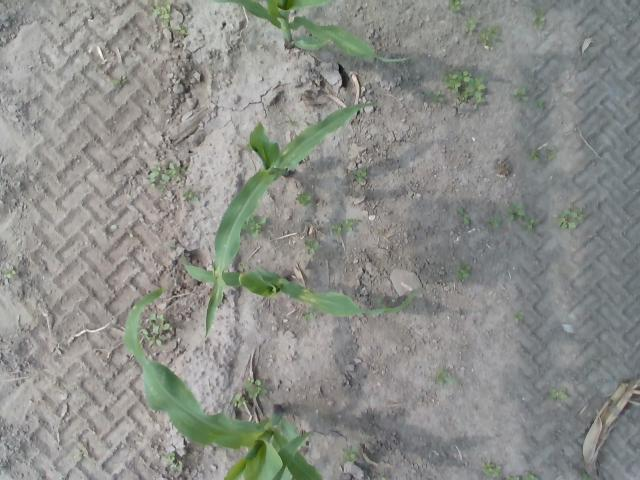Maize: (206, 103, 376, 336), (123, 289, 326, 480), (214, 0, 412, 63), (185, 264, 423, 316)
Weeds: (461, 80, 488, 104), (556, 204, 582, 226), (476, 27, 501, 47), (248, 214, 268, 236), (446, 69, 471, 86), (141, 325, 161, 345), (149, 166, 169, 182), (152, 315, 170, 332), (157, 6, 174, 22), (458, 207, 472, 225), (533, 12, 547, 30), (550, 388, 568, 401), (515, 87, 530, 102), (428, 91, 444, 105), (308, 238, 322, 254), (509, 204, 525, 218), (342, 450, 357, 464), (448, 0, 464, 13), (437, 369, 449, 386), (235, 392, 248, 406), (464, 18, 476, 33), (354, 168, 368, 180), (490, 214, 504, 226), (297, 194, 312, 205), (532, 148, 542, 164), (163, 452, 176, 464), (167, 163, 180, 175), (253, 380, 264, 394), (183, 190, 200, 199), (480, 462, 498, 470), (514, 311, 524, 325), (458, 266, 471, 276), (115, 77, 127, 86), (334, 222, 344, 232), (346, 219, 353, 230), (528, 220, 538, 227), (526, 474, 537, 480), (248, 377, 255, 386)
